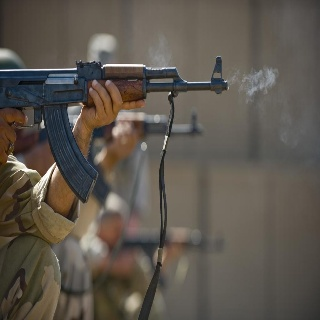rifle: (1, 52, 232, 199)
